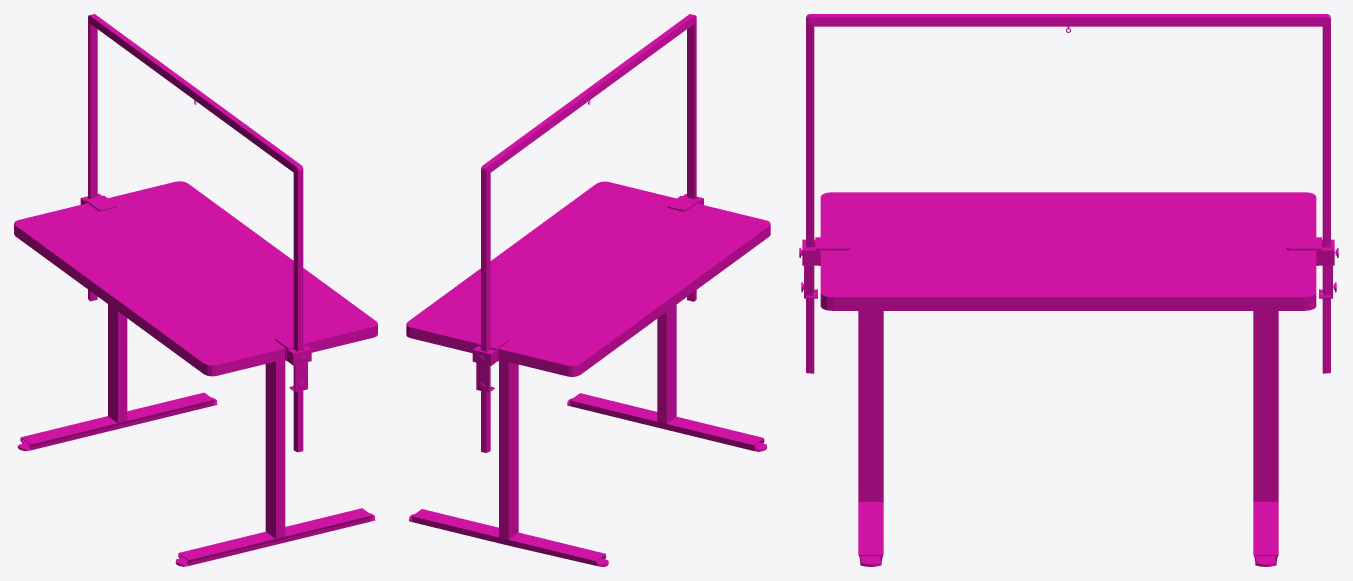
File: Pet_desk.fbx
3 renders of one model, left to right at view 1: azimuth 30°, elevation 25°; view 2: azimuth 150°, elevation 25°; view 3: azimuth 270°, elevation 25°, orthographic. The views are drawn at different scales.
Parts seen in each view (by area): view 1: Pet_desk02; view 2: Pet_desk02; view 3: Pet_desk02.
Part boxes in pixels (left/top/right/bottom): Pet_desk02: left=14, top=14, right=377, bottom=566; Pet_desk02: left=406, top=14, right=770, bottom=566; Pet_desk02: left=799, top=14, right=1338, bottom=566.
Bounding box in the file's own units: 119 × 227 × 226.
